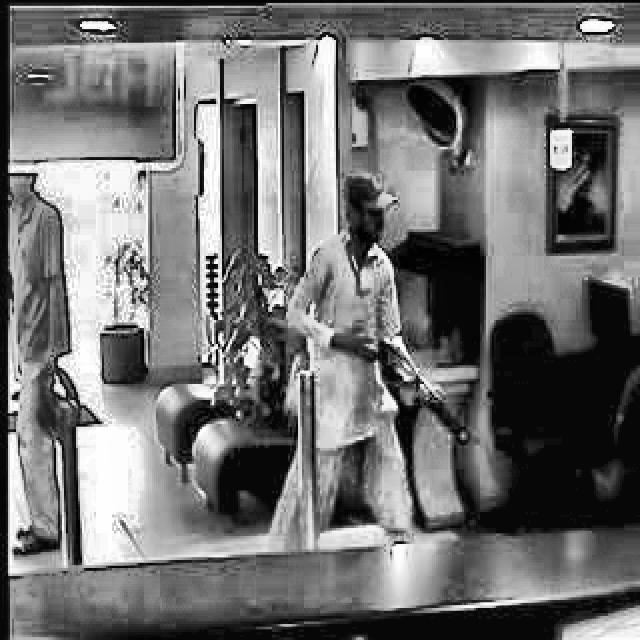robbery: (268, 170, 478, 550)
